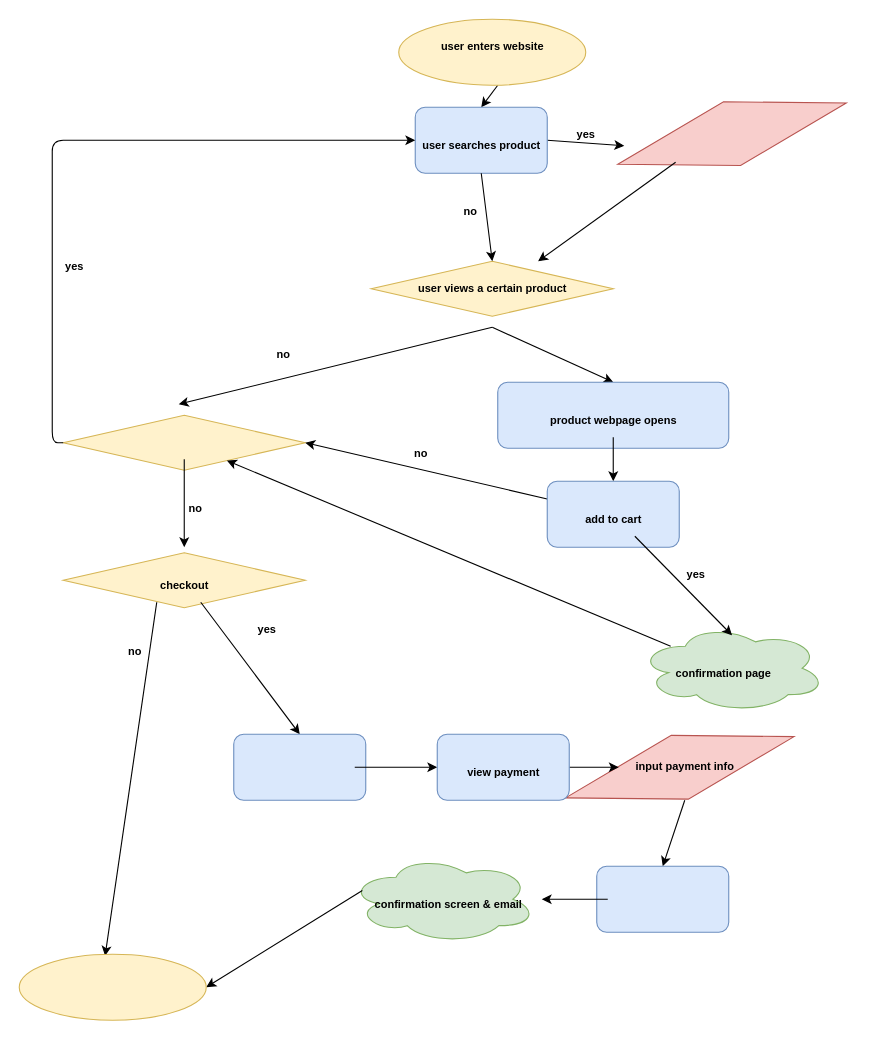
Image size: 875x1040. Some labels were removed from this diagram. Here are the shapes that lost their labels. From the top down, the centre of each, then its label:
point 731,133: user provides input
point 183,442: continue shopping
point 299,766: view cart
point 662,898: pay
point 112,986: leave website
